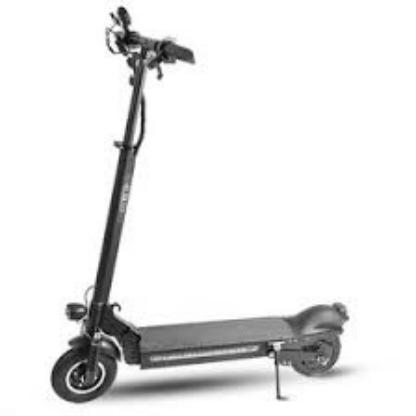bike: (50, 286, 351, 404)
